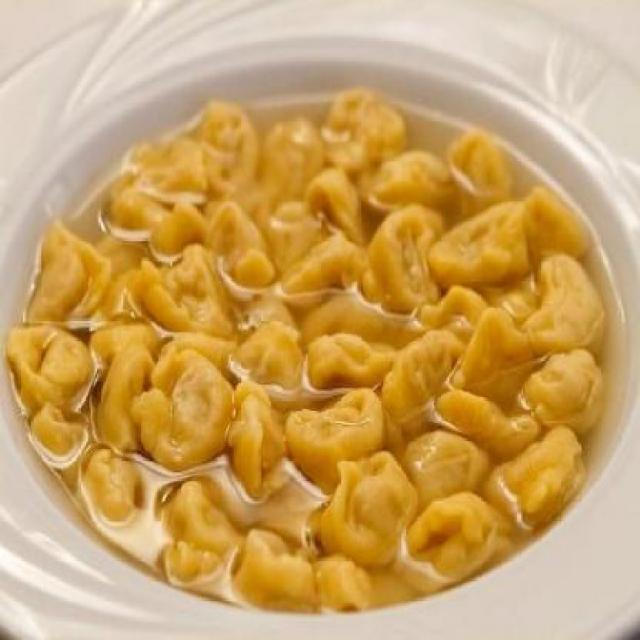Tortellini in broth: (65, 117, 586, 563)
